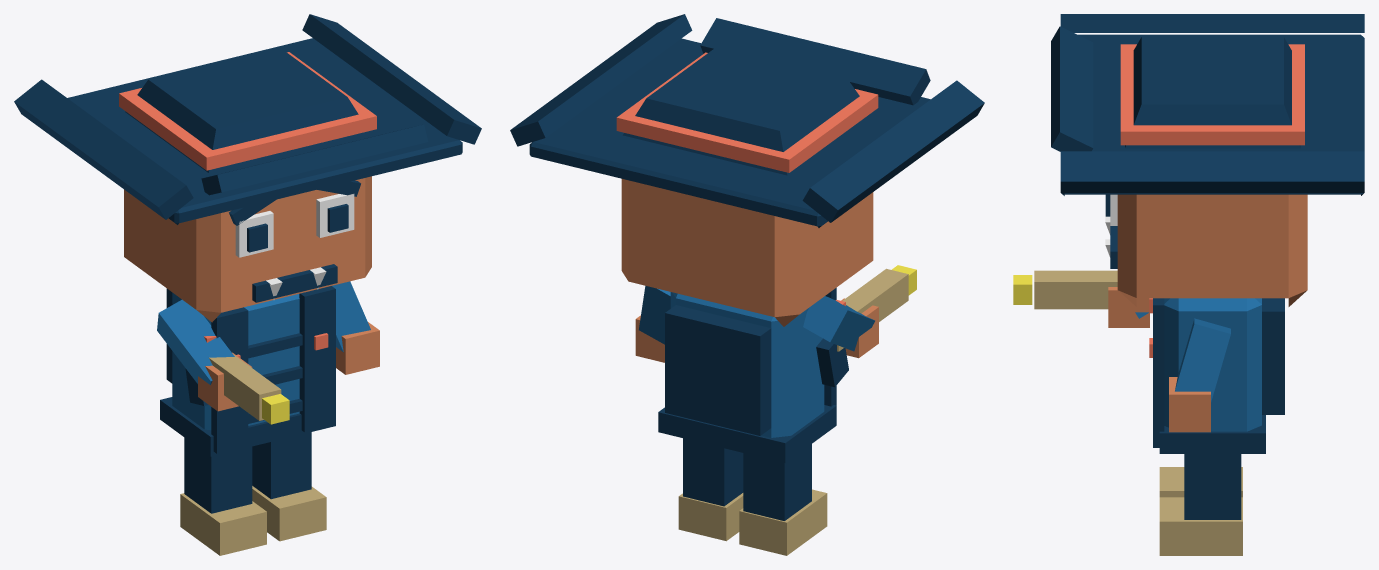
The model's file is gunner_r15.glb.
3 renders of one model, left to right at view 1: azimuth 30°, elevation 25°; view 2: azimuth 150°, elevation 25°; view 3: azimuth 270°, elevation 25°, orthographic. The views are drawn at different scales.
Parts seen in each view (by area): view 1: gunner_r15_mesh; view 2: gunner_r15_mesh; view 3: gunner_r15_mesh.
Part boxes in pixels (box(x1,y1,x2,y2)): gunner_r15_mesh: box(14, 14, 481, 555); gunner_r15_mesh: box(510, 14, 984, 555); gunner_r15_mesh: box(1013, 14, 1364, 555).
Bounding box in the file's own units: 1.24 × 1.6 × 1.11.
Materials: 1 (1 with a texture image).
